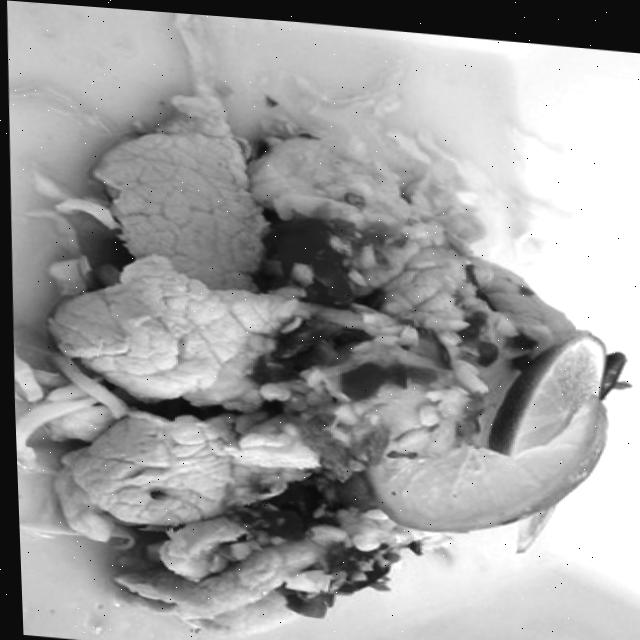猪肉菜式: (30, 55, 637, 640)
